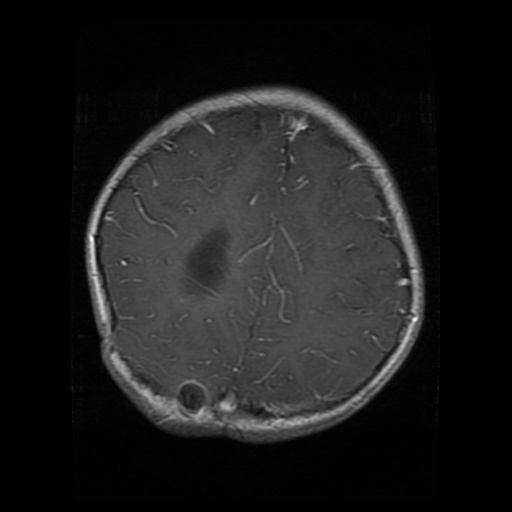glioma: (182, 220, 237, 305)
